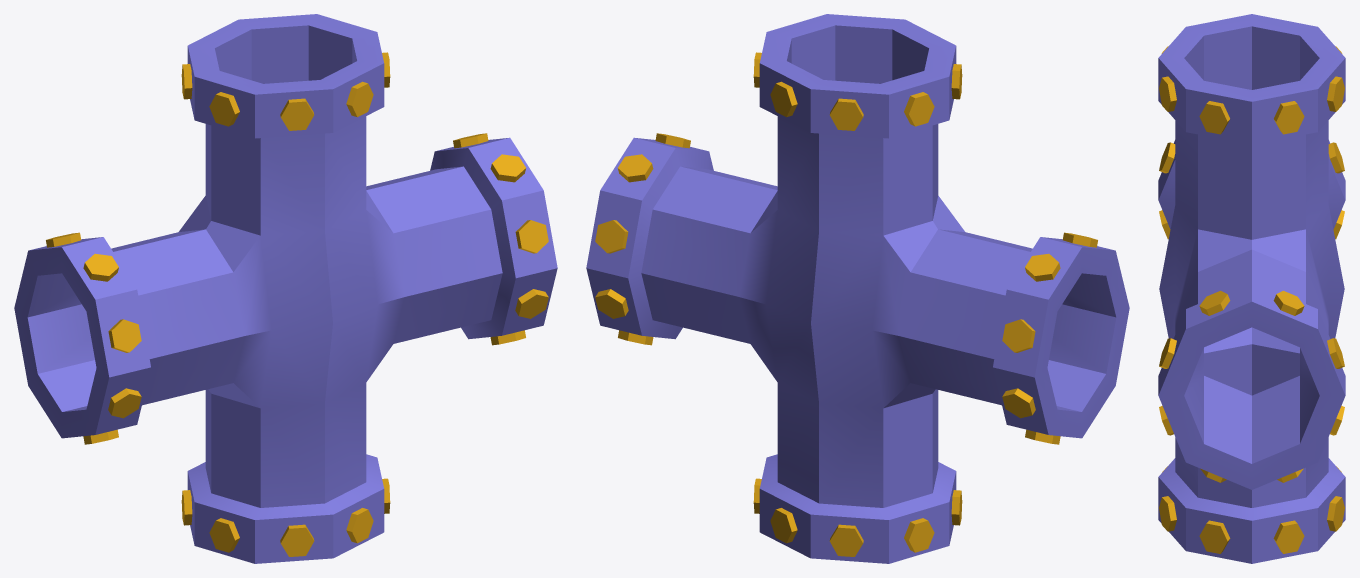
The model's file is pipe4.fbx.
The picture shows the model from 3 angles, left to right: view 1: azimuth 30°, elevation 25°; view 2: azimuth 150°, elevation 25°; view 3: azimuth 270°, elevation 25°; orthographic projection.
Parts seen in each view (by area): view 1: pipe4; view 2: pipe4; view 3: pipe4.
Boxes of the visible parts, x1=… form: pipe4: x1=14, y1=14, x2=557, y2=563; pipe4: x1=586, y1=14, x2=1129, y2=563; pipe4: x1=1158, y1=14, x2=1345, y2=563.
Bounding box in the file's own units: 9.9 × 3.63 × 9.9.
